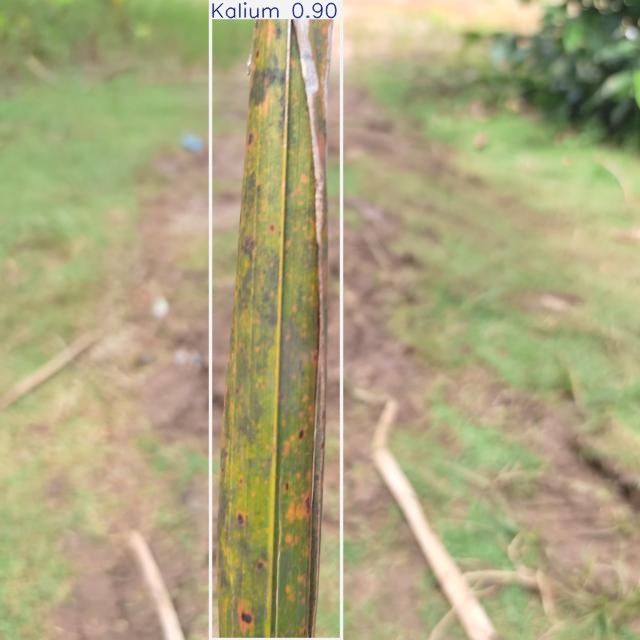Kalium: (210, 0, 341, 640)
